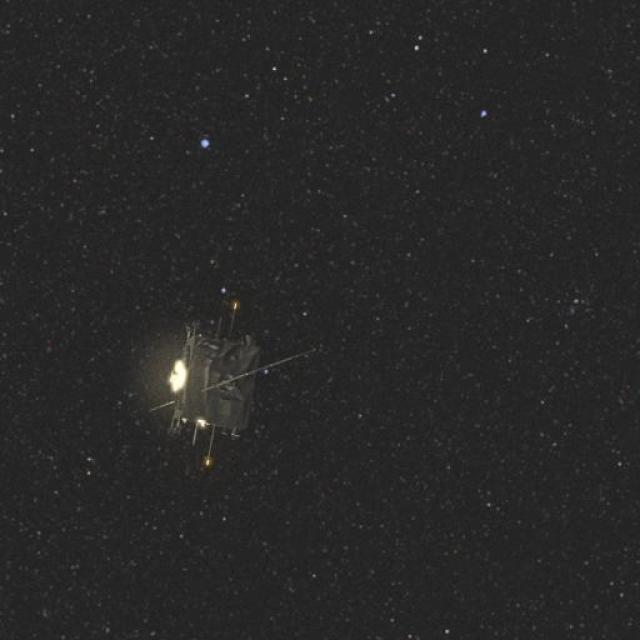smart_1: (136, 216, 323, 537)
